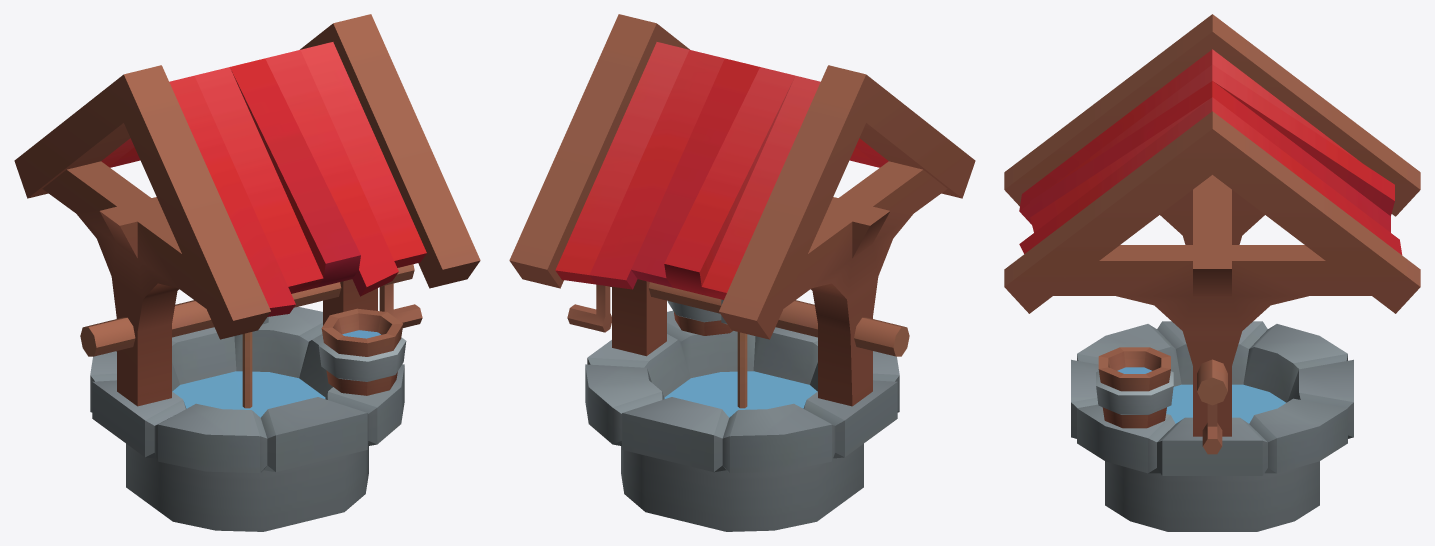
The model's file is kk_well_v1.glb.
3 renders of one model, left to right at view 1: azimuth 30°, elevation 25°; view 2: azimuth 150°, elevation 25°; view 3: azimuth 270°, elevation 25°, orthographic. The views are drawn at different scales.
Parts seen in each view (by area): view 1: building_well_red; view 2: building_well_red; view 3: building_well_red.
Boxes of the visible parts, box(x1,y1,x2,y2) form: building_well_red: box(14, 14, 480, 531); building_well_red: box(509, 14, 975, 531); building_well_red: box(1004, 14, 1420, 531).
Size of the model in its own units: 0.6518 by 0.826 by 0.7507.
1 material, 1 textured.
